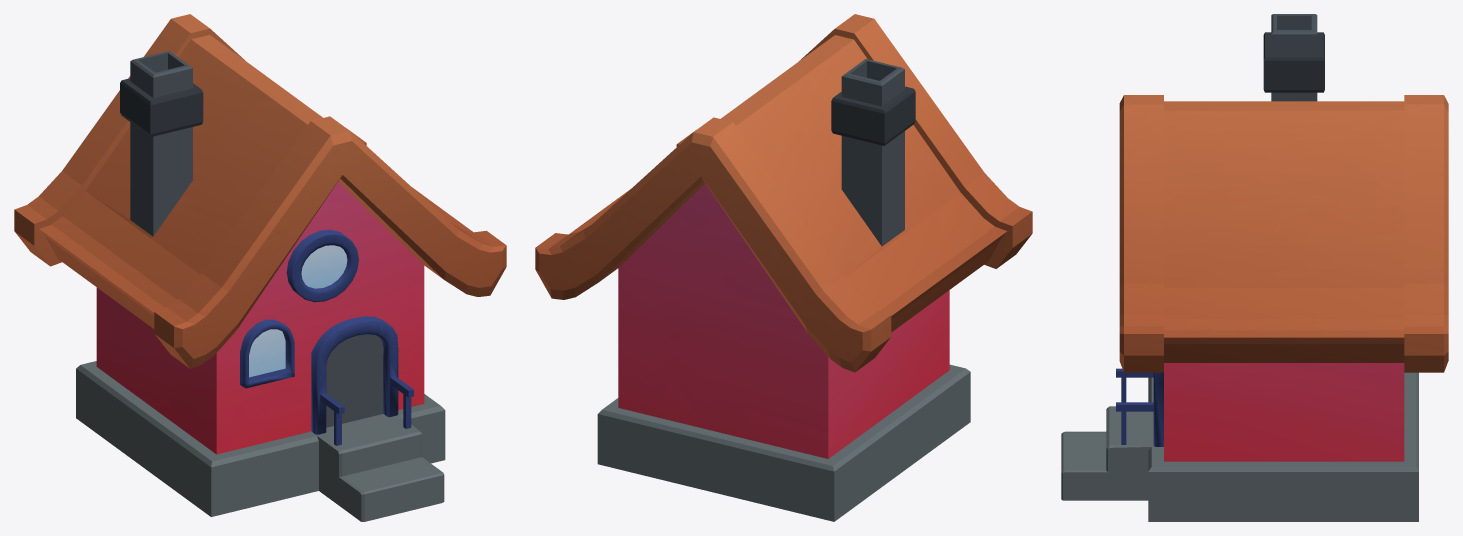
The model's file is House001.fbx.
3 views of the same model, side by side, from view 1: azimuth 30°, elevation 25°; view 2: azimuth 150°, elevation 25°; view 3: azimuth 270°, elevation 25° (orthographic).
Visible parts, largest first — view 1: House001; view 2: House001; view 3: House001.
Boxes of the visible parts, x1=… form: House001: x1=14, y1=14, x2=506, y2=521; House001: x1=535, y1=14, x2=1032, y2=521; House001: x1=1061, y1=14, x2=1448, y2=521.
Size of the model in its own units: 685 by 778 by 689.
